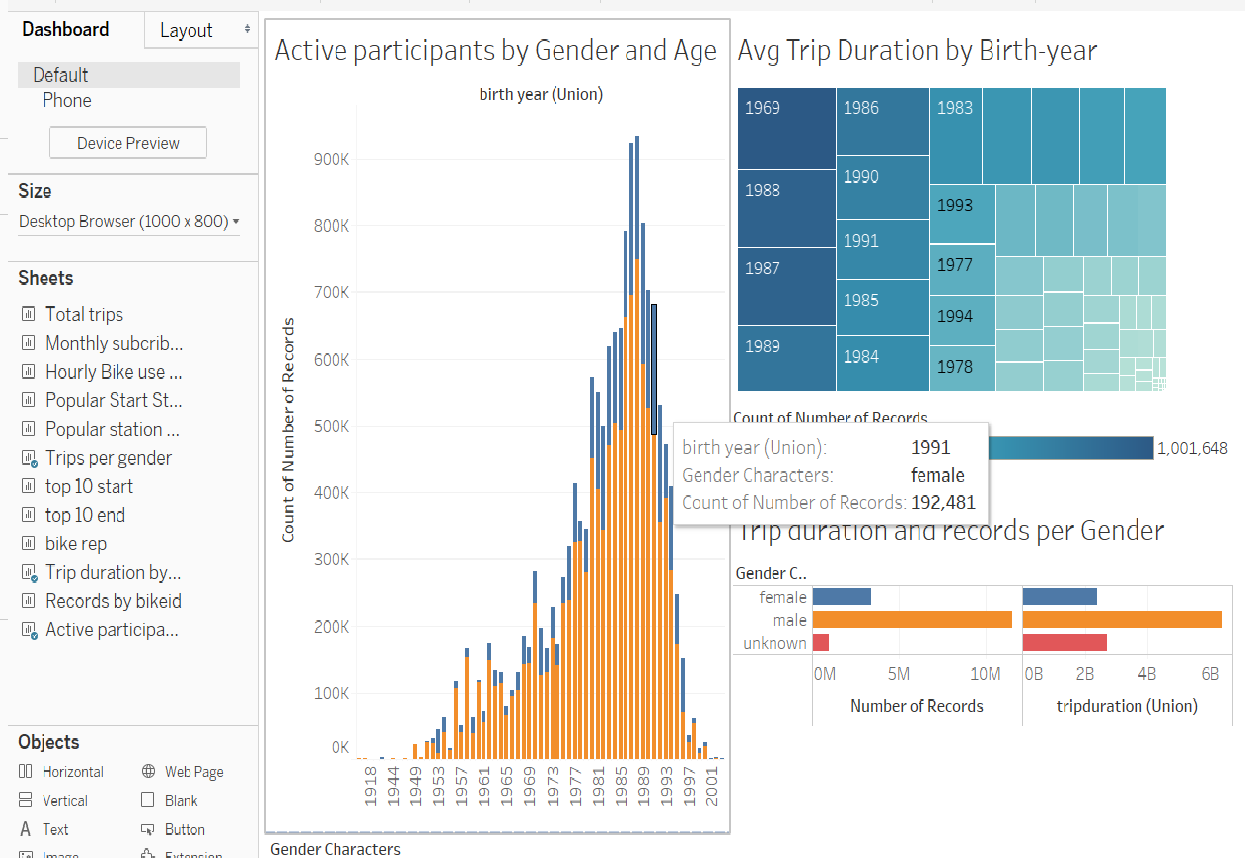

This screenshot's page, from the dashboard's own definition file:
{"tool":"tableau","page":{"name":"By age and gender","canvas":[1000,800],"ordinal":0},"visuals":[{"type":"worksheet","title":"Active participants","mark":"Automatic","rows":["Number of Records"],"cols":["birth year (Union)"],"box":[8,8,469,709]},{"type":"worksheet","title":"Trip duration by age","mark":"Automatic","box":[477,8,515,333]},{"type":"legend","title":"Trip duration by age","param":"[federated.0bjqk4u1wdq1g41czazz71danlju].[cnt:Number of Records:qk]","box":[477,341,515,86]},{"type":"worksheet","title":"Trips per gender","mark":"Automatic","rows":["Calculation_1863927317636767745"],"cols":["Number of Records","tripduration (Union)"],"box":[477,427,515,365]},{"type":"legend","title":"Active participants","param":"[federated.0bjqk4u1wdq1g41czazz71danlju].[none:Calculation_1863927317636767745:n","box":[8,717,469,75]}]}

Visuals, with their boxes on the page's 1000x800 design canvas (x1, y1, x2, y2). These are canvas units, not pixel positions in the 1245x858 screenshot, which may show the page scaled, cropped or inside an application window:
"Active participants" worksheet: Rect(8, 8, 477, 717)
"Trip duration by age" worksheet: Rect(477, 8, 992, 341)
"Trip duration by age" legend: Rect(477, 341, 992, 427)
"Trips per gender" worksheet: Rect(477, 427, 992, 792)
"Active participants" legend: Rect(8, 717, 477, 792)
